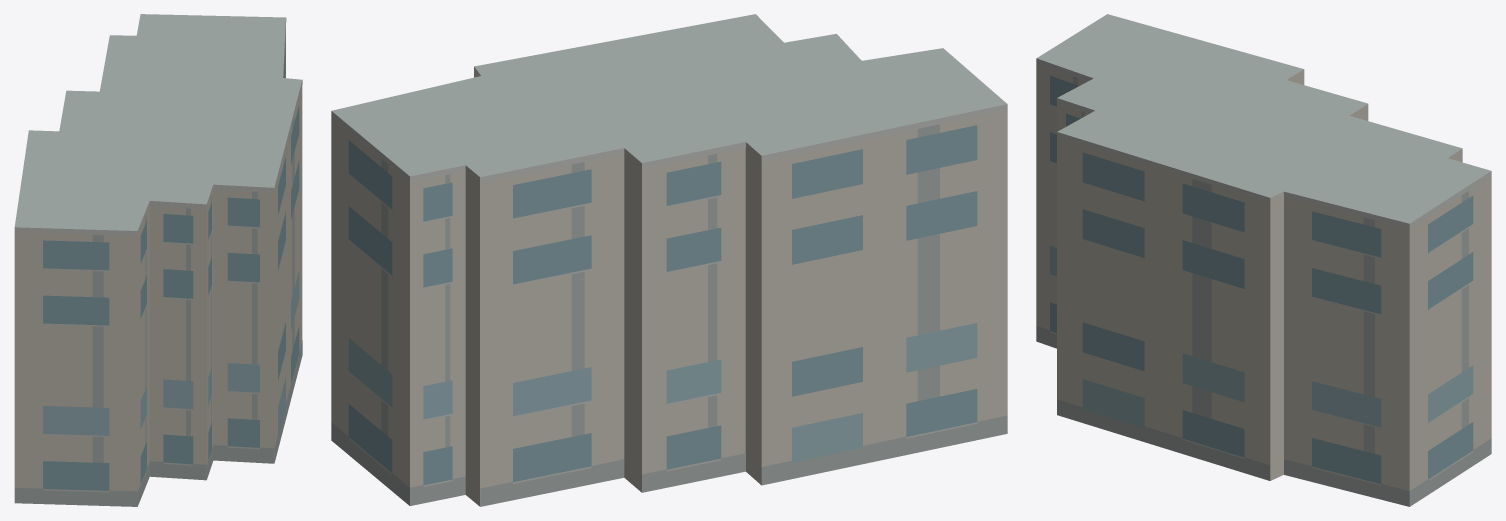
Rendered from survey-upis-32810328.glb.
The picture shows the model from 3 angles, left to right: view 1: azimuth 30°, elevation 25°; view 2: azimuth 150°, elevation 25°; view 3: azimuth 270°, elevation 25°; orthographic projection. The views are drawn at different scales.
Visible parts, largest first — view 1: survey-upis-32810328.tmp; view 2: survey-upis-32810328.tmp; view 3: survey-upis-32810328.tmp.
Part boxes in pixels (box(x1,y1,x2,y2)): survey-upis-32810328.tmp: box(14, 14, 302, 506); survey-upis-32810328.tmp: box(331, 14, 1007, 506); survey-upis-32810328.tmp: box(1036, 14, 1491, 506).
Bounding box in the file's own units: 21.45 × 13.5 × 19.67.
